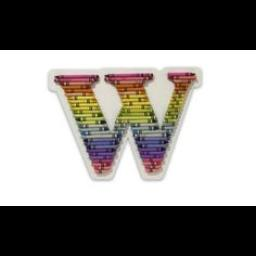w: (50, 70, 200, 180)
